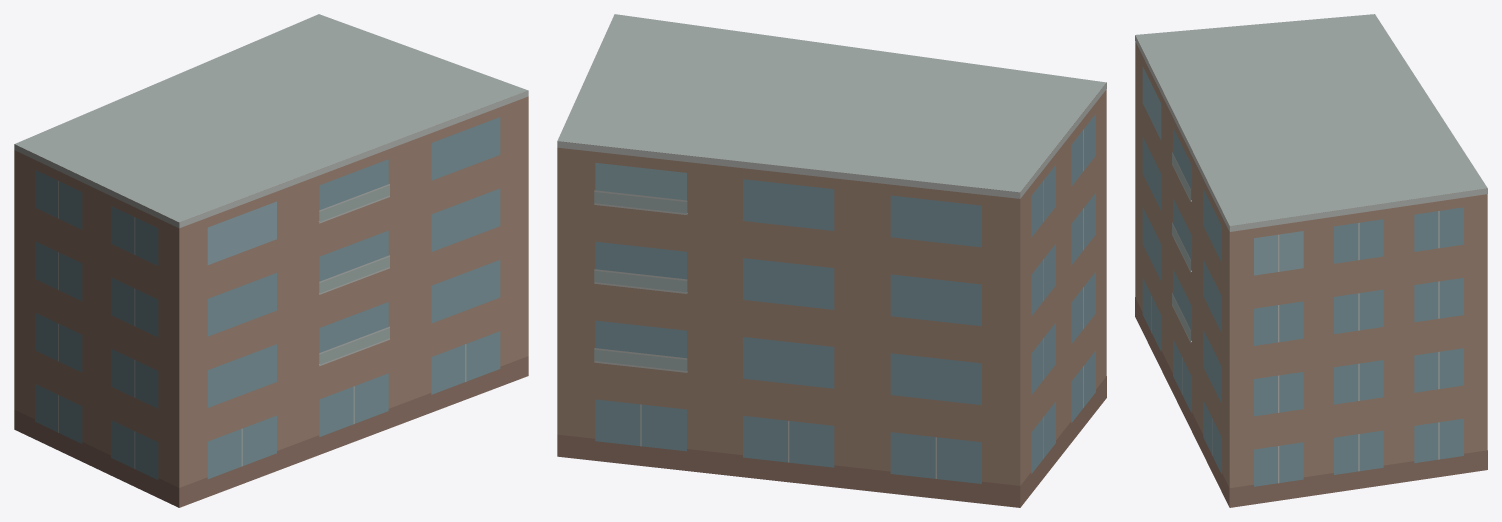
File: survey-upis-32763681.glb
The picture shows the model from 3 angles, left to right: view 1: azimuth 30°, elevation 25°; view 2: azimuth 150°, elevation 25°; view 3: azimuth 270°, elevation 25°; orthographic projection. The views are drawn at different scales.
Visible parts, largest first — view 1: survey-upis-32763681.tmp; view 2: survey-upis-32763681.tmp; view 3: survey-upis-32763681.tmp.
Boxes of the visible parts, x1,y1,x2,y2 form: survey-upis-32763681.tmp: (14, 14, 528, 507); survey-upis-32763681.tmp: (557, 14, 1106, 507); survey-upis-32763681.tmp: (1135, 14, 1487, 507).
Size of the model in its own units: 18.99 by 11.75 by 13.34.
